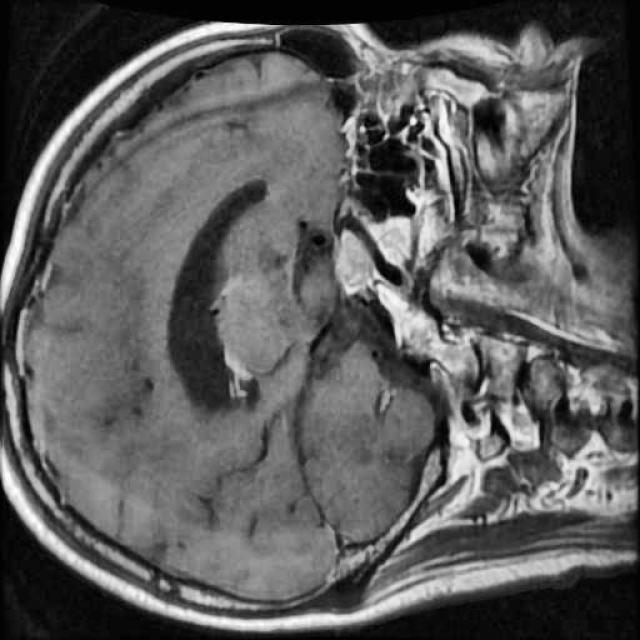Tumor: (316, 214, 389, 311)
